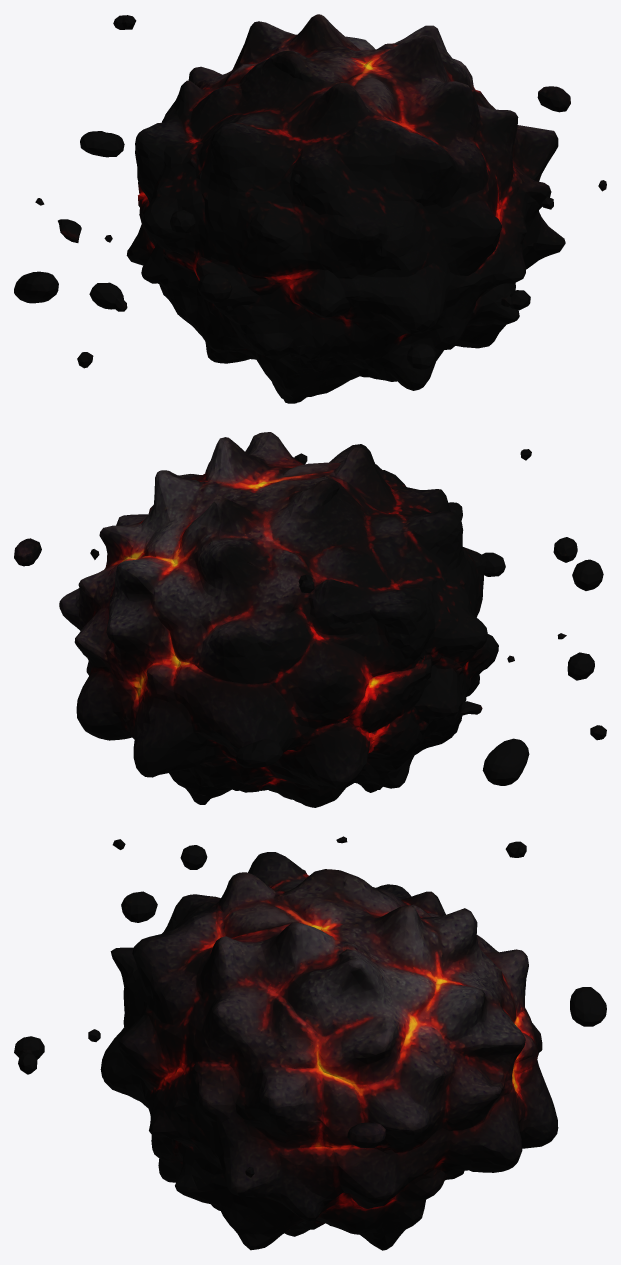
The model's file is obstacle.glb.
3 views of the same model, one above another, from view 1: azimuth 30°, elevation 25°; view 2: azimuth 150°, elevation 25°; view 3: azimuth 270°, elevation 25° (orthographic).
Visible parts, largest first — view 1: world; view 2: world; view 3: world.
Boxes of the visible parts, x1,y1,x2,y2 form: world: (14, 14, 606, 403); world: (14, 432, 606, 807); world: (14, 836, 606, 1250).
Bounding box in the file's own units: 1 × 0.5878 × 0.9403.
1 material, 1 textured.
